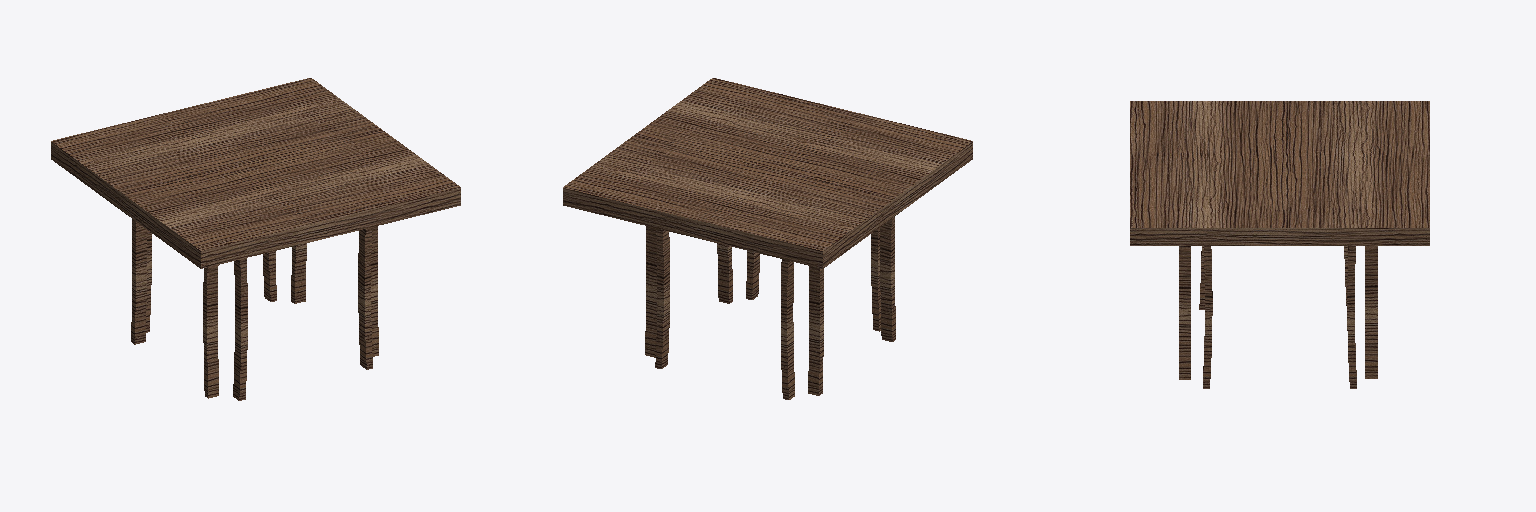
3 views of the same model, side by side, from view 1: azimuth 30°, elevation 25°; view 2: azimuth 150°, elevation 25°; view 3: azimuth 270°, elevation 25° (orthographic).
Visible parts, largest first — view 1: group_7.001_ID123, group_1.004_ID80, group_2.003_ID22, group_1.003_ID6, group_2.004_ID89, group_5.001_ID58, group_4.001_ID49, group_2.005_ID142; view 2: group_7.001_ID123, group_2.004_ID89, group_2.005_ID142, group_1.005_ID133, group_1.004_ID80, group_4.001_ID49, group_2.003_ID22, group_5.001_ID58, group_1.003_ID6; view 3: group_7.001_ID123, group_2.005_ID142, group_1.003_ID6, group_4.001_ID49, group_5.001_ID58.
Part boxes in pixels (left/top/right/bottom): group_7.001_ID123: left=51, top=78, right=460, bottom=268; group_1.004_ID80: left=203, top=265, right=218, bottom=398; group_2.003_ID22: left=233, top=258, right=247, bottom=400; group_1.003_ID6: left=358, top=227, right=372, bottom=369; group_2.004_ID89: left=131, top=219, right=146, bottom=344; group_5.001_ID58: left=371, top=226, right=378, bottom=356; group_4.001_ID49: left=291, top=243, right=306, bottom=303; group_2.005_ID142: left=263, top=251, right=276, bottom=301; group_7.001_ID123: left=563, top=78, right=972, bottom=268; group_2.004_ID89: left=808, top=266, right=823, bottom=395; group_2.005_ID142: left=655, top=228, right=669, bottom=368; group_1.005_ID133: left=781, top=259, right=794, bottom=399; group_1.004_ID80: left=880, top=217, right=895, bottom=341; group_4.001_ID49: left=645, top=226, right=656, bottom=357; group_2.003_ID22: left=871, top=228, right=880, bottom=331; group_5.001_ID58: left=717, top=243, right=732, bottom=303; group_1.003_ID6: left=746, top=251, right=759, bottom=299; group_7.001_ID123: left=1130, top=101, right=1429, bottom=245; group_2.005_ID142: left=1365, top=246, right=1377, bottom=378; group_1.003_ID6: left=1179, top=246, right=1190, bottom=379; group_4.001_ID49: left=1347, top=246, right=1356, bottom=388; group_5.001_ID58: left=1203, top=246, right=1212, bottom=388.
Bounding box in the file's own units: 13.25 × 8.91 × 13.25.
Materials: 1 (1 with a texture image).